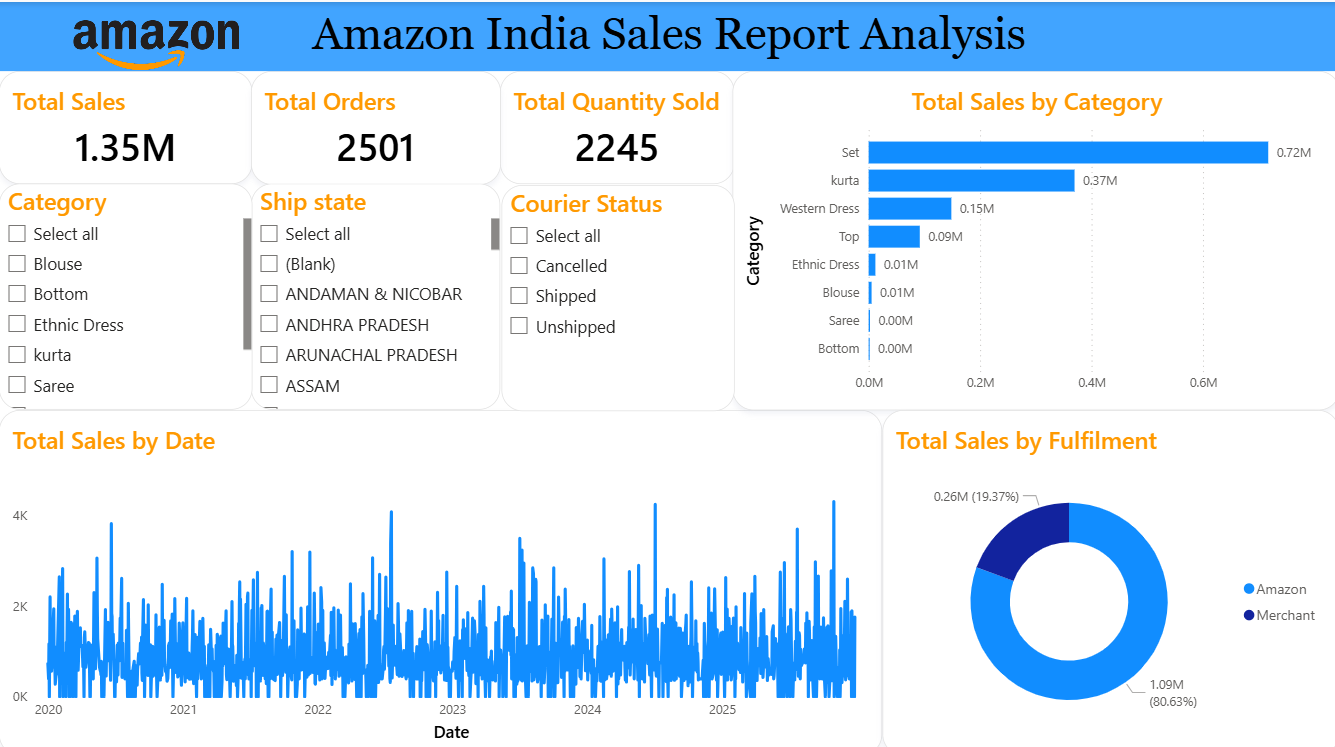

Layout of this report page (visuals, bound fields, positions):
{"tool":"powerbi","page":{"name":"Page 1","canvas":[1280,720],"ordinal":0},"visuals":[{"type":"card","title":"Total Sales","fields":{"Values":["Amazon Sale Report.Total Sales"]},"box":[0,66,242,108],"z":0},{"type":"card","title":"Total Quantity Sold","fields":{"Values":["Amazon Sale Report.(DAX(Total Quantity Sold"]},"box":[478,66,224,108],"z":1000},{"type":"card","title":"Total Orders","fields":{"Values":["Amazon Sale Report.DAX(Total Orders"]},"box":[240.8,65.8,238.3,108.3],"z":2000},{"type":"slicer","fields":{"Values":["Amazon Sale Report.ship-state"]},"box":[240.6,173.5,238.2,215.9],"z":3000},{"type":"slicer","fields":{"Values":["Amazon Sale Report.Category"]},"box":[0,173.6,241.8,215.9],"z":4000},{"type":"lineChart","fields":{"Category":["Amazon Sale Report.Date"],"Y":["Amazon Sale Report.Total Sales"]},"box":[0,390.2,843.6,330.3],"z":5000},{"type":"barChart","fields":{"Category":["Amazon Sale Report.Category"],"Y":["Amazon Sale Report.Total Sales"]},"box":[700,66,580,324],"z":6000},{"type":"donutChart","fields":{"Category":["Amazon Sale Report.Fulfilment"],"Y":["Amazon Sale Report.Total Sales"]},"box":[844,390,436,330],"z":7000},{"type":"slicer","fields":{"Values":["Amazon Sale Report.Courier Status"]},"box":[479.2,174.2,222.5,215.8],"z":8000},{"type":"textbox","box":[0,0,1280,66],"z":9000},{"type":"image","box":[0,0,300,82],"z":10000}]}

Visuals, with their boxes in screenshot pixels (x1, y1, x2, y2), scaled from the page's 1280x720 canvas onto the 1335x747 screenshot:
"Total Sales" card: [x1=0, y1=68, x2=252, y2=181]
"Total Quantity Sold" card: [x1=499, y1=68, x2=732, y2=181]
"Total Orders" card: [x1=251, y1=68, x2=500, y2=181]
slicer - Amazon Sale Report.ship-state: [x1=251, y1=180, x2=499, y2=404]
slicer - Amazon Sale Report.Category: [x1=0, y1=180, x2=252, y2=404]
lineChart - Amazon Sale Report.Date x Amazon Sale Report.Total Sales: [x1=0, y1=405, x2=880, y2=746]
barChart - Amazon Sale Report.Category x Amazon Sale Report.Total Sales: [x1=730, y1=68, x2=1334, y2=405]
donutChart - Amazon Sale Report.Fulfilment x Amazon Sale Report.Total Sales: [x1=880, y1=405, x2=1334, y2=746]
slicer - Amazon Sale Report.Courier Status: [x1=500, y1=181, x2=732, y2=405]
textbox: [x1=0, y1=0, x2=1334, y2=68]
image: [x1=0, y1=0, x2=313, y2=85]
